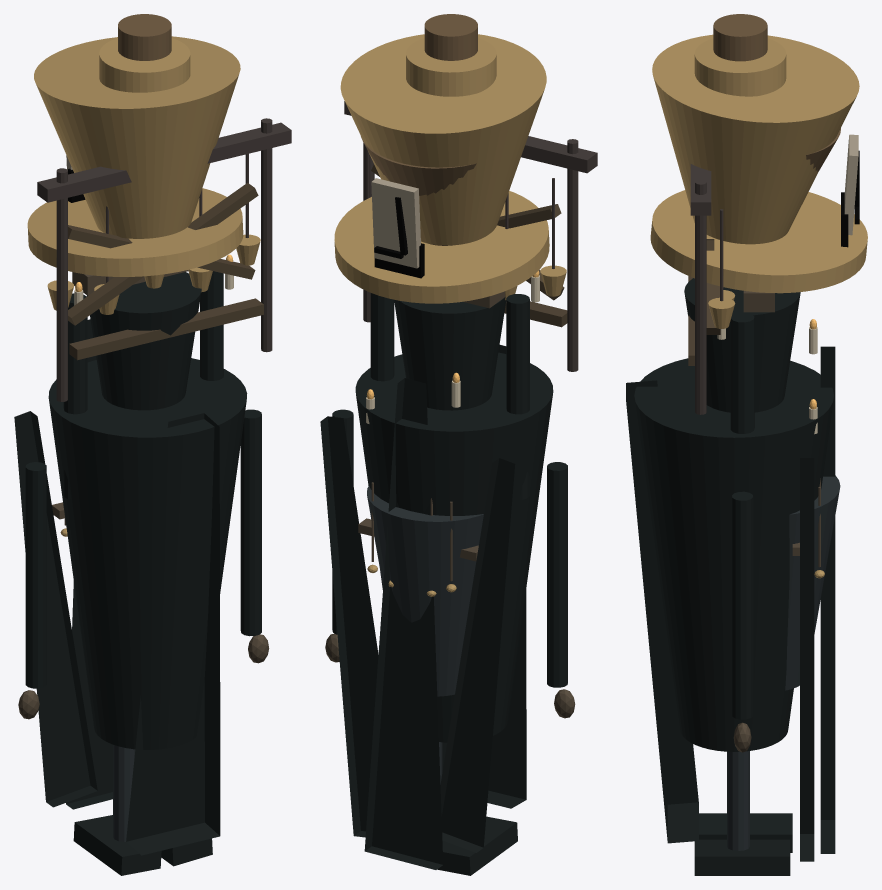
Rendered from bell_saint_v4_blockout.glb.
The picture shows the model from 3 angles, left to right: view 1: azimuth 30°, elevation 25°; view 2: azimuth 150°, elevation 25°; view 3: azimuth 270°, elevation 25°; orthographic projection.
Visible parts, largest first — view 1: BS4_RobeOuter_TallTapered, BS4_BellHead_MainFlare, BS4_BackRobeTrain, BS4_LeftRobeFall, BS4_UpperTorso_Narrow, BS4_BellHead_HeavyMouthRim, BS4_LeftForeSleeve, BS4_RightForeSleeve, BS4_BackCrossbar_Top, BS4_BellHead_TopCrown, BS4_BackCrossbar_Low, BS4_FrontRobeBladePanel (+12 smaller); view 2: BS4_RobeOuter_TallTapered, BS4_BellHead_MainFlare, BS4_FrontRobeBladePanel, BS4_LeftRobeFall, BS4_RightRobeFall, BS4_BellHead_HeavyMouthRim, BS4_RobeInner_DeepShadow, BS4_UpperTorso_Narrow, BS4_LeftForeSleeve, BS4_BackRobeTrain, BS4_BellHead_TopCrown, BS4_HangingWarningPlate (+13 smaller); view 3: BS4_RobeOuter_TallTapered, BS4_BellHead_MainFlare, BS4_BellHead_HeavyMouthRim, BS4_BackRobeTrain, BS4_UpperTorso_Narrow, BS4_FrontRobeBladePanel, BS4_RightRobeFall, BS4_RightForeSleeve, BS4_RobeInner_DeepShadow, BS4_BellHead_TopCrown, BS4_RightFoot_shadow, BS4_RightUpperSleeve (+8 smaller).
Part boxes in pixels (left/top/right/bottom): BS4_RobeOuter_TallTapered: left=48, top=358, right=247, bottom=749; BS4_BellHead_MainFlare: left=34, top=36, right=240, bottom=238; BS4_BackRobeTrain: left=126, top=413, right=220, bottom=855; BS4_LeftRobeFall: left=14, top=411, right=97, bottom=807; BS4_UpperTorso_Narrow: left=87, top=272, right=201, bottom=410; BS4_BellHead_HeavyMouthRim: left=27, top=188, right=243, bottom=276; BS4_LeftForeSleeve: left=25, top=462, right=46, bottom=688; BS4_RightForeSleeve: left=240, top=409, right=261, bottom=636; BS4_BackCrossbar_Top: left=37, top=122, right=291, bottom=202; BS4_BellHead_TopCrown: left=99, top=38, right=190, bottom=92; BS4_BackCrossbar_Low: left=69, top=298, right=263, bottom=360; BS4_FrontRobeBladePanel: left=66, top=319, right=112, bottom=809; BS4_RobeOuter_TallTapered: left=355, top=352, right=553, bottom=742; BS4_BellHead_MainFlare: left=340, top=34, right=546, bottom=245; BS4_FrontRobeBladePanel: left=364, top=378, right=443, bottom=869; BS4_LeftRobeFall: left=440, top=458, right=515, bottom=852; BS4_RightRobeFall: left=320, top=416, right=378, bottom=837; BS4_BellHead_HeavyMouthRim: left=334, top=190, right=549, bottom=303; BS4_RobeInner_DeepShadow: left=367, top=486, right=483, bottom=696; BS4_UpperTorso_Narrow: left=394, top=297, right=506, bottom=410; BS4_LeftForeSleeve: left=547, top=462, right=567, bottom=687; BS4_BackRobeTrain: left=442, top=345, right=526, bottom=808; BS4_BellHead_TopCrown: left=406, top=38, right=496, bottom=96; BS4_HangingWarningPlate: left=371, top=178, right=420, bottom=268; BS4_RobeOuter_TallTapered: left=634, top=358, right=834, bottom=751; BS4_BellHead_MainFlare: left=652, top=34, right=859, bottom=244; BS4_BellHead_HeavyMouthRim: left=650, top=190, right=867, bottom=293; BS4_BackRobeTrain: left=626, top=380, right=698, bottom=843; BS4_UpperTorso_Narrow: left=684, top=278, right=800, bottom=412; BS4_FrontRobeBladePanel: left=820, top=346, right=835, bottom=853; BS4_RightRobeFall: left=800, top=458, right=814, bottom=861; BS4_RightForeSleeve: left=732, top=491, right=753, bottom=719; BS4_RobeInner_DeepShadow: left=785, top=475, right=840, bottom=690; BS4_BellHead_TopCrown: left=694, top=38, right=786, bottom=96; BS4_RightFoot_shadow: left=694, top=839, right=790, bottom=875; BS4_RightUpperSleeve: left=730, top=312, right=754, bottom=433.
Bounding box in the file's own units: 1.39 × 4.4 × 1.16.
